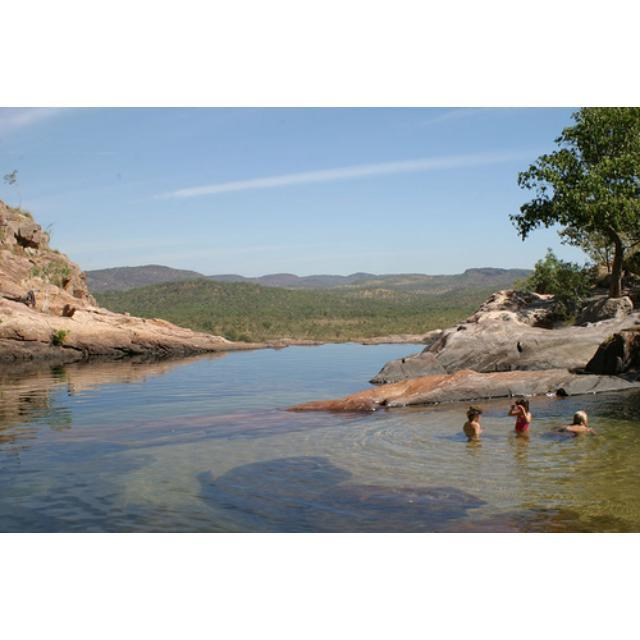human: (556, 405, 598, 437), (509, 397, 533, 436), (462, 404, 485, 443)
